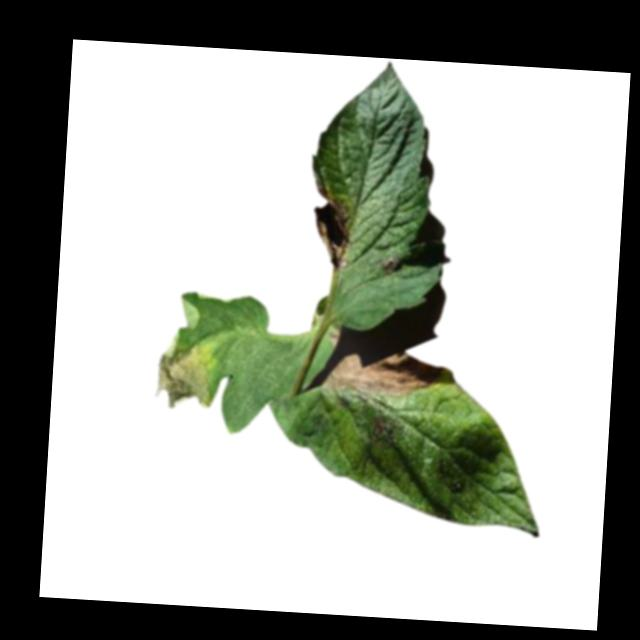Late_blight: (322, 346, 447, 399), (153, 339, 217, 412), (310, 177, 356, 272), (381, 254, 403, 277), (329, 329, 340, 345)
